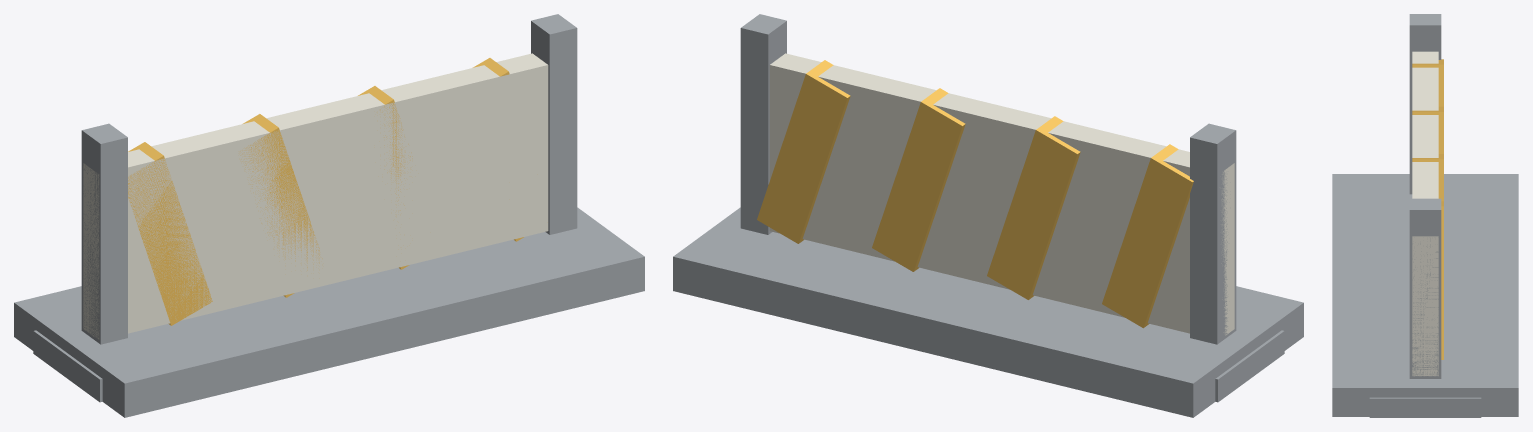
Rendered from SM_Obstacle_PlatformBarrier_Low.glb.
3 renders of one model, left to right at view 1: azimuth 30°, elevation 25°; view 2: azimuth 150°, elevation 25°; view 3: azimuth 270°, elevation 25°, orthographic. The views are drawn at different scales.
Visible parts, largest first — view 1: Panel, Base, Post-0.82, Hazard-0.62, Post+0.82, Hazard-0.20, Foot-0.82, Hazard+0.22; view 2: Base, Panel, Post-0.82, Hazard-0.20, Hazard+0.22, Hazard+0.64, Hazard-0.62, Post+0.82, Foot-0.82; view 3: Base, Panel, Post+0.82, Foot+0.82, Post-0.82, Hazard+0.64, Hazard-0.20, Hazard-0.62, Hazard+0.22.
Part boxes in pixels (box(x1,y1,x2,y2)): Panel: box(83, 53, 548, 339); Base: box(14, 207, 644, 417); Post-0.82: box(81, 123, 127, 344); Hazard-0.62: box(128, 142, 212, 325); Post+0.82: box(531, 14, 577, 234); Hazard-0.20: box(240, 114, 322, 297); Foot-0.82: box(33, 330, 102, 402); Hazard+0.22: box(358, 86, 412, 269); Base: box(673, 207, 1303, 417); Panel: box(769, 53, 1234, 335); Post-0.82: box(1190, 123, 1236, 344); Hazard-0.20: box(987, 116, 1080, 299); Hazard+0.22: box(872, 88, 965, 271); Hazard+0.64: box(757, 60, 850, 243); Hazard-0.62: box(1102, 144, 1193, 328); Post+0.82: box(740, 14, 786, 234); Foot-0.82: box(1215, 330, 1284, 402); Base: box(1332, 174, 1518, 416); Panel: box(1412, 51, 1438, 376); Post+0.82: box(1409, 198, 1441, 378); Foot+0.82: box(1369, 397, 1481, 417); Post-0.82: box(1409, 14, 1441, 194); Hazard+0.64: box(1441, 201, 1443, 359); Hazard-0.20: box(1412, 106, 1443, 153); Hazard-0.62: box(1412, 59, 1443, 106); Hazard+0.22: box(1412, 154, 1443, 201).
Size of the model in its own units: 1.92 by 0.82 by 0.7.
